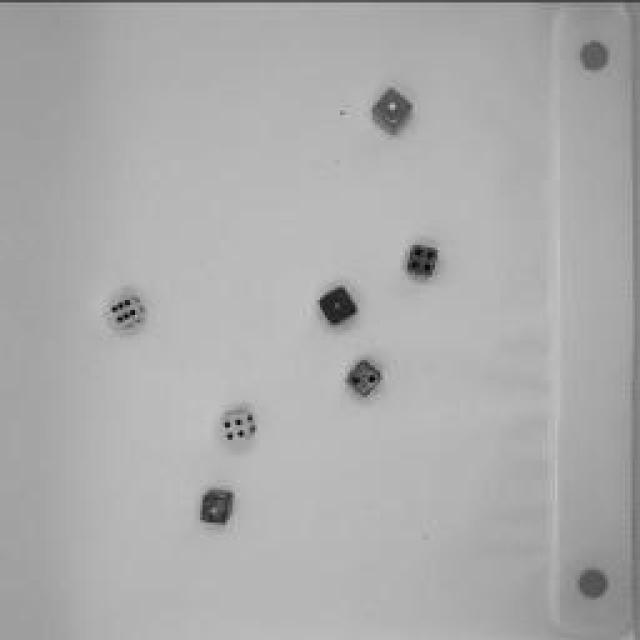dice_1: (369, 80, 419, 138), (312, 284, 360, 326), (195, 484, 235, 526)
dice_2: (345, 358, 383, 398)
dice_4: (215, 406, 260, 444), (402, 242, 440, 280)
dice_6: (102, 288, 148, 332)
